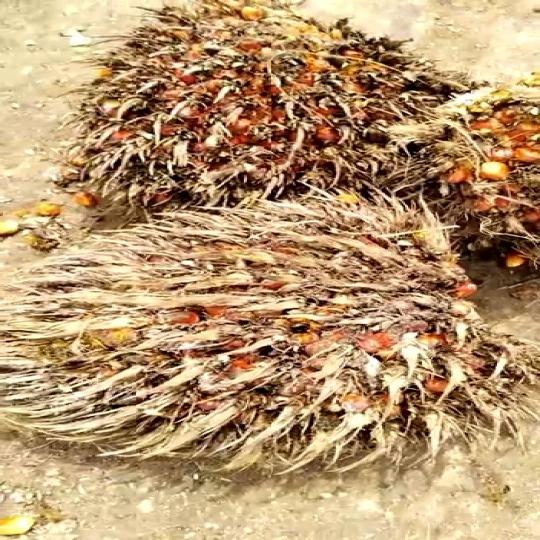terlalu masak: (0, 192, 473, 474), (87, 16, 470, 218)
